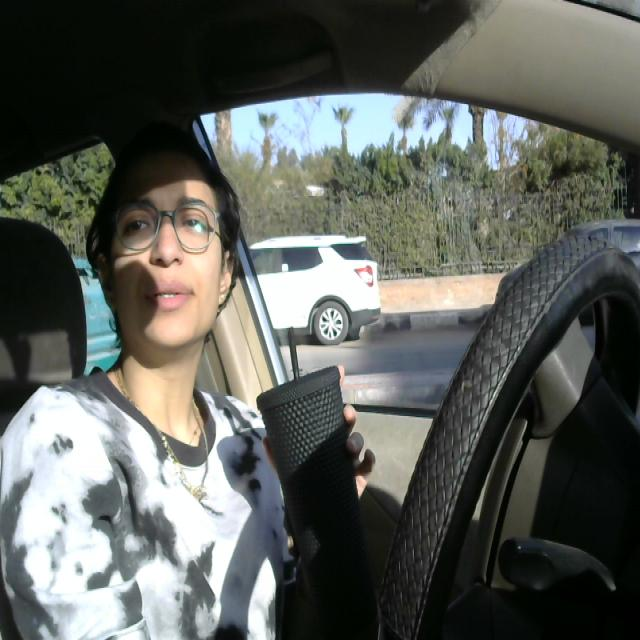drinking: (236, 329, 392, 627)
